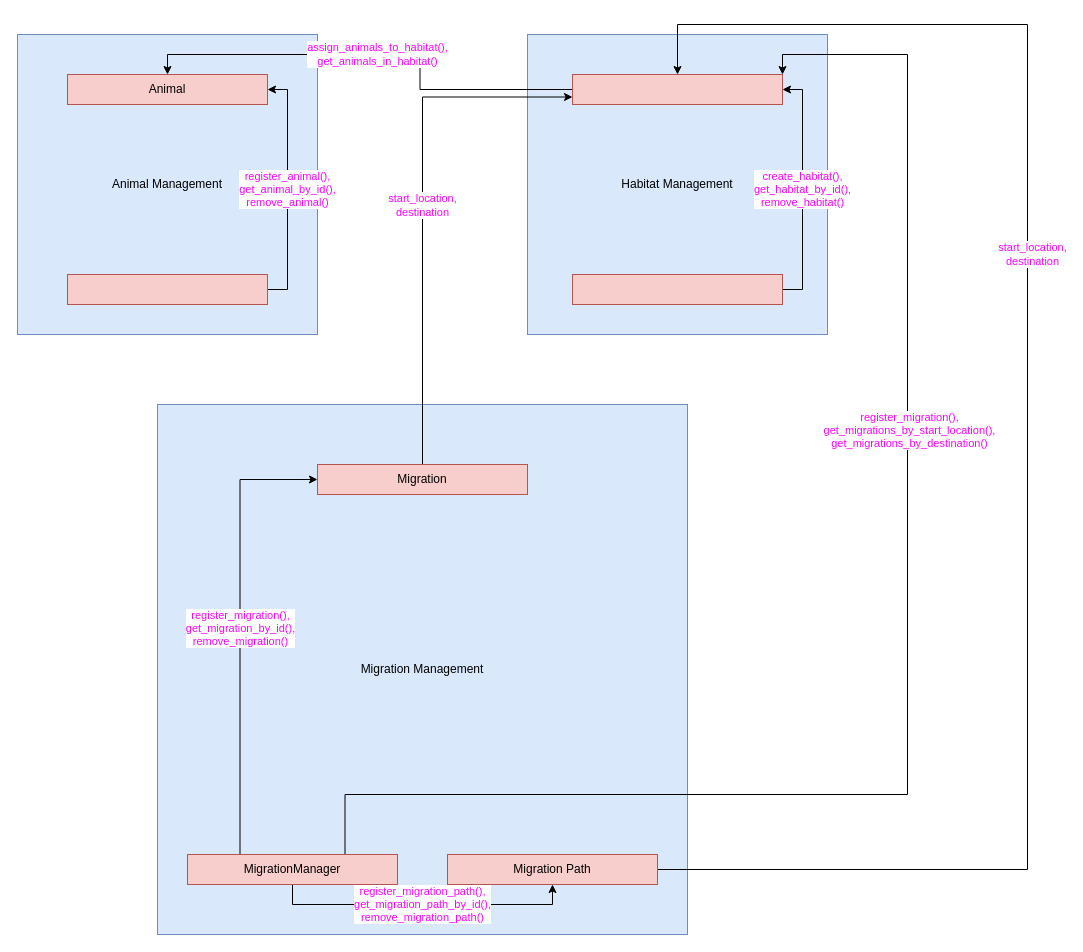
Image size: 1083x952. Some labels were removed from this diagram. Each missing label, with the centre of its shape:
"AnimalManager" belongs at point 167,289.
"Habitat" belongs at point 677,89.
"HabitatManager" belongs at point 677,289.
